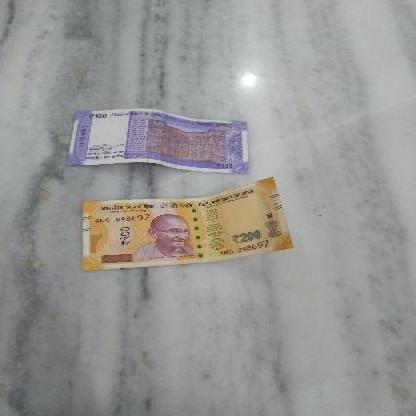New100Back: (70, 111, 258, 168)
New200Front: (78, 175, 289, 265)
